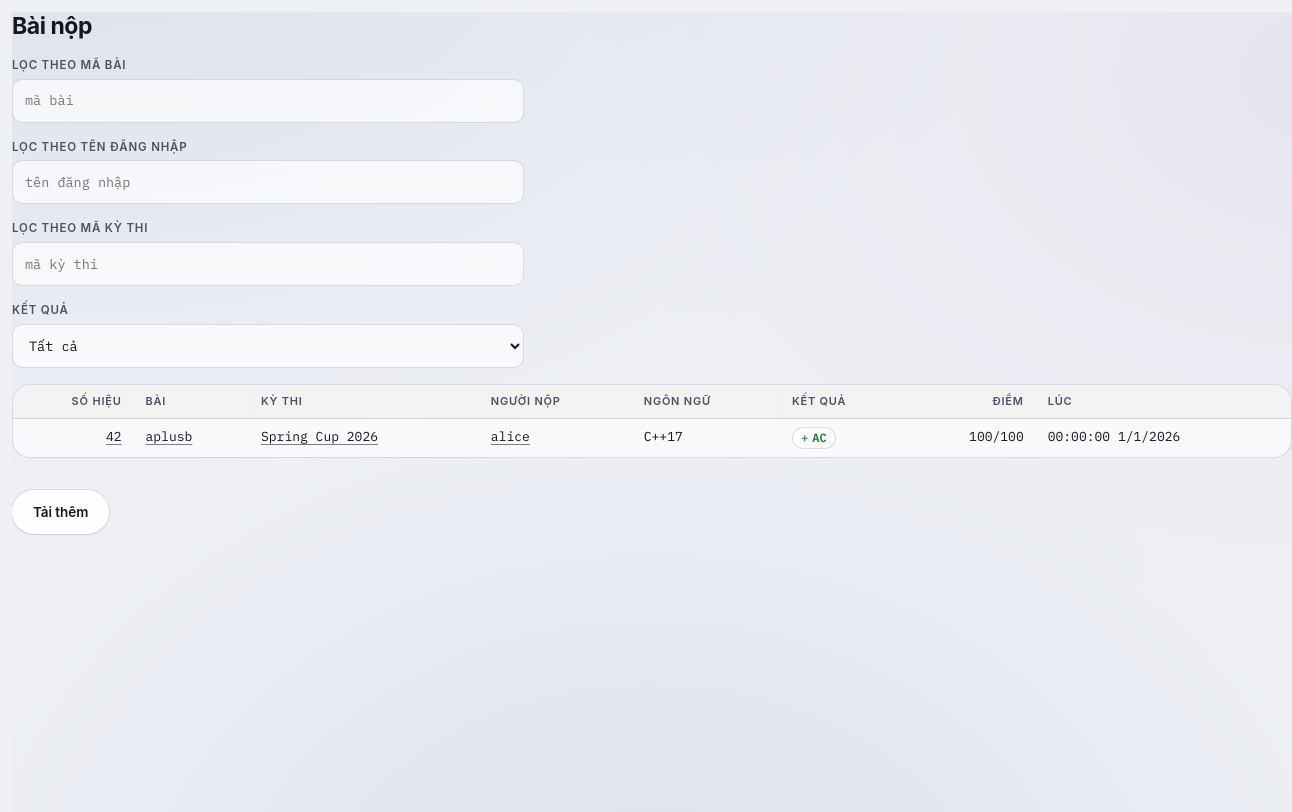
Scenario: SubmissionsPage › appends the next page instead of replacing the first on "load more"
The width and height of the screenshot is (1292, 812).
Check: the link "42" is shown, box left=106, top=428, right=122, bottom=445
Check: the text "41" is not shown
Click the button "Tải thêm".
click(61, 512)  # box left=12, top=490, right=109, bottom=534
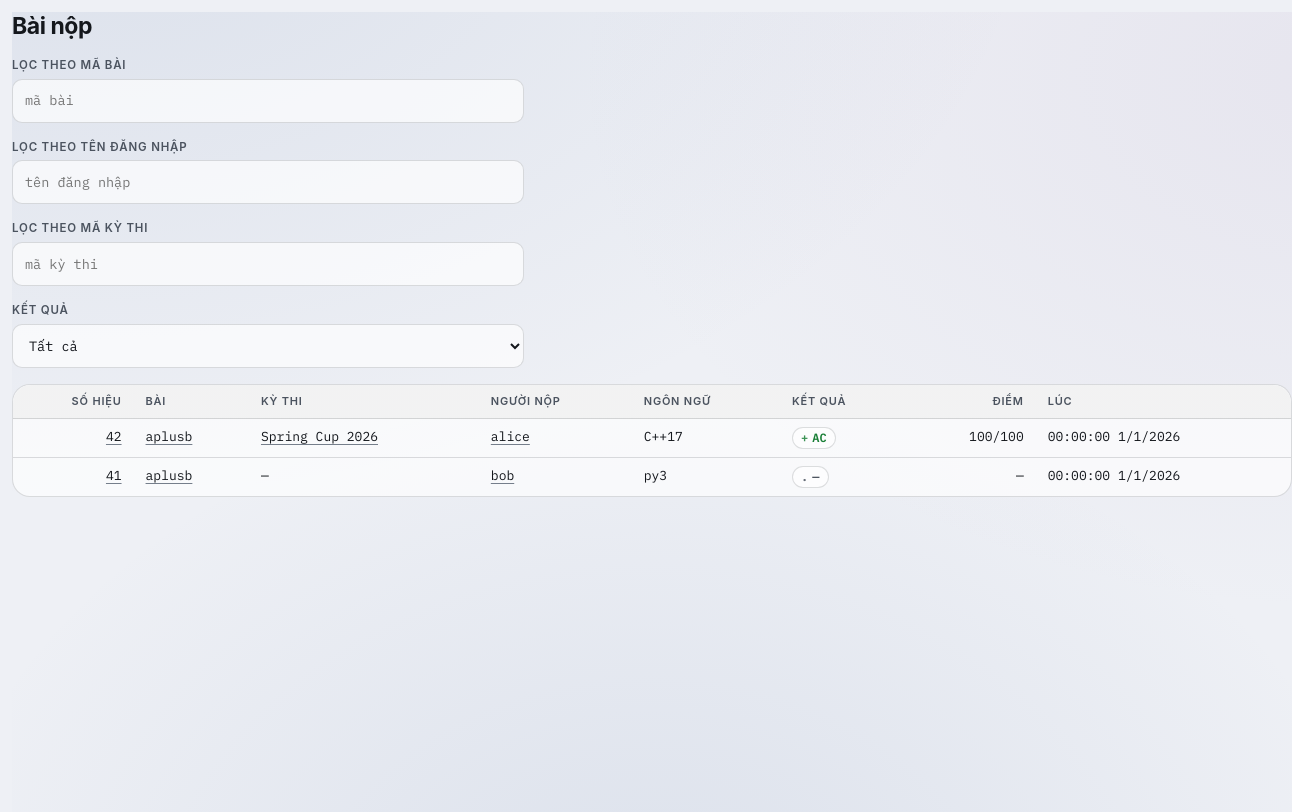
Check: the link "42" is shown, box left=106, top=428, right=122, bottom=445
Check: the link "41" is shown, box left=106, top=467, right=122, bottom=484
